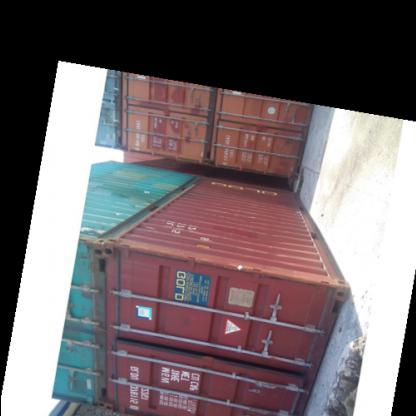Damage: (112, 238, 236, 268)
